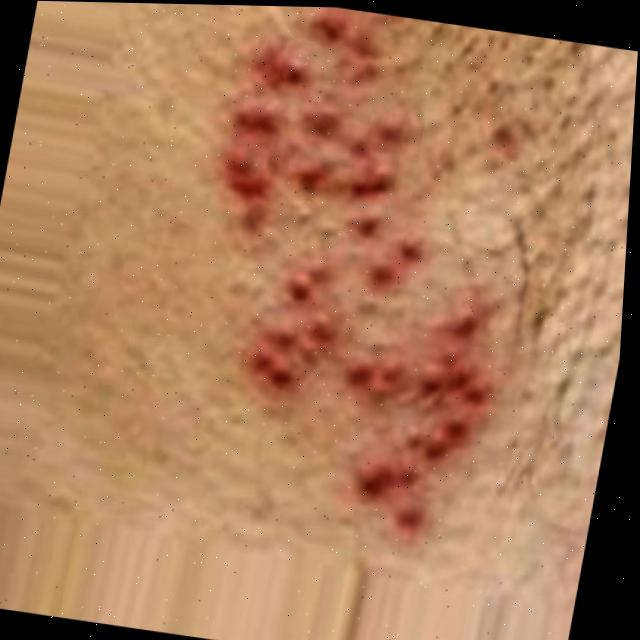Shingles: (168, 4, 549, 529)
